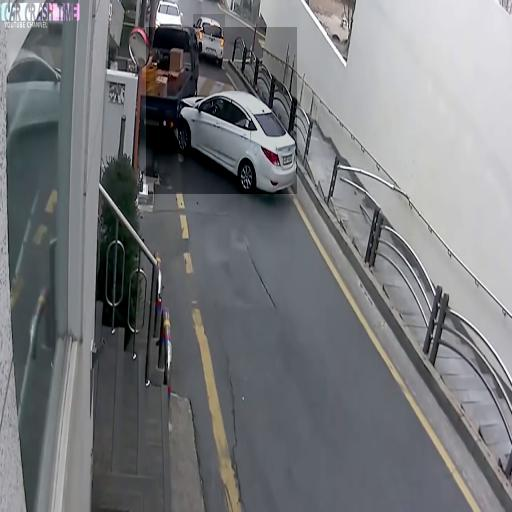小汽车: (194, 14, 226, 70)
小汽车撞小汽车: (146, 27, 297, 194)
